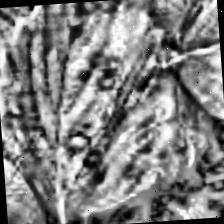Leaf Spot: (0, 0, 219, 224)
